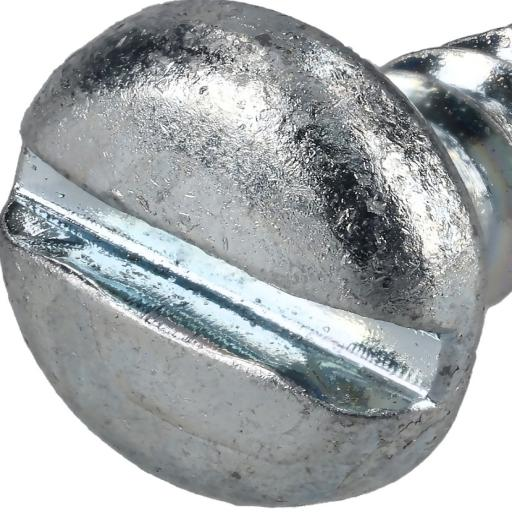Slotted: (0, 3, 510, 509)
